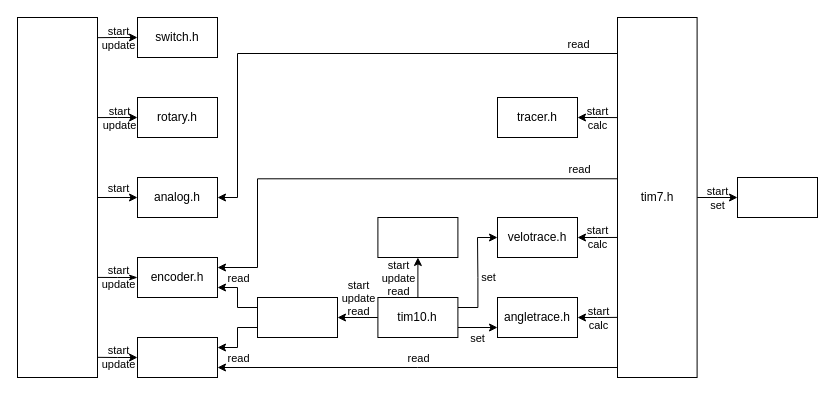
Some shapes in this 835 by 395 pixel diagram are drawn without their labels. Here are the shapes that lost their labels. From the top down, the box of each, then its label:
(16, 16, 98, 378): tim11.h
(736, 176, 818, 218): motor.h
(377, 216, 458, 258): kcm_controller.h
(256, 296, 338, 338): localization.h
(136, 336, 218, 378): imu.h
